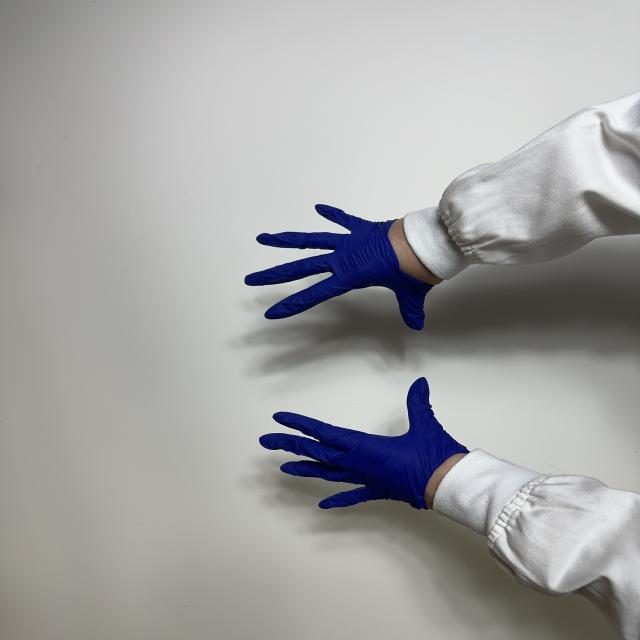glove_not_fitted: (256, 374, 471, 512), (244, 203, 442, 330)
